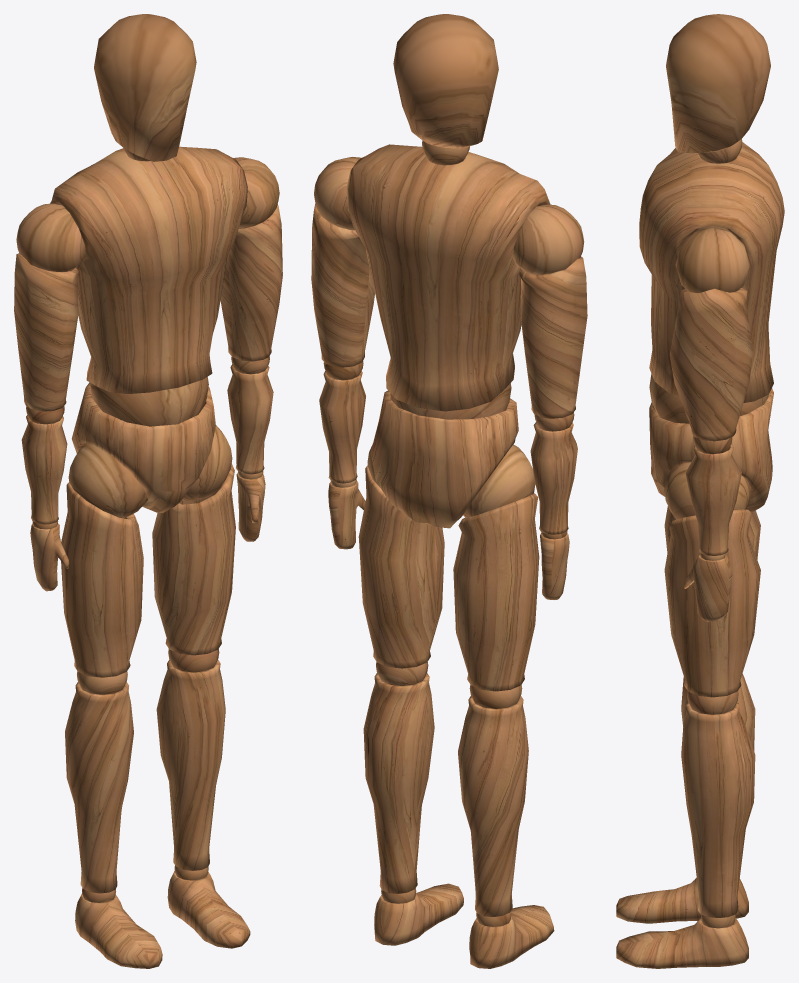
Rendered from 324.parts.obj.
3 renders of one model, left to right at view 1: azimuth 30°, elevation 25°; view 2: azimuth 150°, elevation 25°; view 3: azimuth 270°, elevation 25°, orthographic. The views are drawn at different scales.
Parts seen in each view (by area): view 1: chest/back_6, left_thigh_5, right_thigh_9, head_1, left_shin_19, right_shin_18, butt_20, left_arm_15, right_arm_10, left_foot_21, right_foot_22, right_forearm_27 (+8 smaller); view 2: chest/back_6, left_thigh_5, butt_20, right_thigh_9, left_shin_19, right_shin_18, head_1, left_arm_15, right_arm_10, left_forearm_26, left_shoulder_2, right_forearm_27 (+9 smaller); view 3: chest/back_6, right_thigh_9, right_shin_18, head_1, right_arm_10, butt_20, right_foot_22, right_forearm_27, right_shoulder_3, left_foot_21, right_hand_12, belly_25 (+5 smaller).
Boxes of the visible parts, <box> form: chest/back_6: <box>50,146,247,393</box>; left_thigh_5: <box>61,443,147,677</box>; right_thigh_9: <box>152,425,235,655</box>; head_1: <box>94,14,196,161</box>; left_shin_19: <box>65,682,133,893</box>; right_shin_18: <box>156,659,225,870</box>; butt_20: <box>71,382,215,512</box>; left_arm_15: <box>14,253,78,411</box>; right_arm_10: <box>220,204,282,361</box>; left_foot_21: <box>75,893,162,968</box>; right_foot_22: <box>167,871,250,948</box>; right_forearm_27: <box>227,364,273,474</box>; chest/back_6: <box>346,144,550,411</box>; left_thigh_5: <box>453,444,539,691</box>; butt_20: <box>370,390,518,528</box>; right_thigh_9: <box>358,444,444,668</box>; left_shin_19: <box>458,696,528,916</box>; right_shin_18: <box>363,673,434,893</box>; head_1: <box>393,14,498,148</box>; left_arm_15: <box>518,256,587,418</box>; right_arm_10: <box>311,203,374,367</box>; left_forearm_26: <box>530,422,577,534</box>; left_shoulder_2: <box>513,204,584,274</box>; right_forearm_27: <box>319,371,365,483</box>; chest/back_6: <box>639,142,784,402</box>; right_thigh_9: <box>664,462,760,697</box>; right_shin_18: <box>681,702,755,917</box>; head_1: <box>666,14,770,153</box>; right_arm_10: <box>669,287,752,441</box>; butt_20: <box>649,388,773,512</box>; right_foot_22: <box>616,918,748,968</box>; right_forearm_27: <box>685,443,741,555</box>; right_shoulder_3: <box>675,227,749,292</box>; left_foot_21: <box>616,878,748,923</box>; right_hand_12: <box>684,554,732,622</box>; belly_25: <box>649,374,768,423</box>.
Bounding box in the file's own units: 0.5315 × 1.8 × 0.2999.
Materials: 1 (1 with a texture image).
